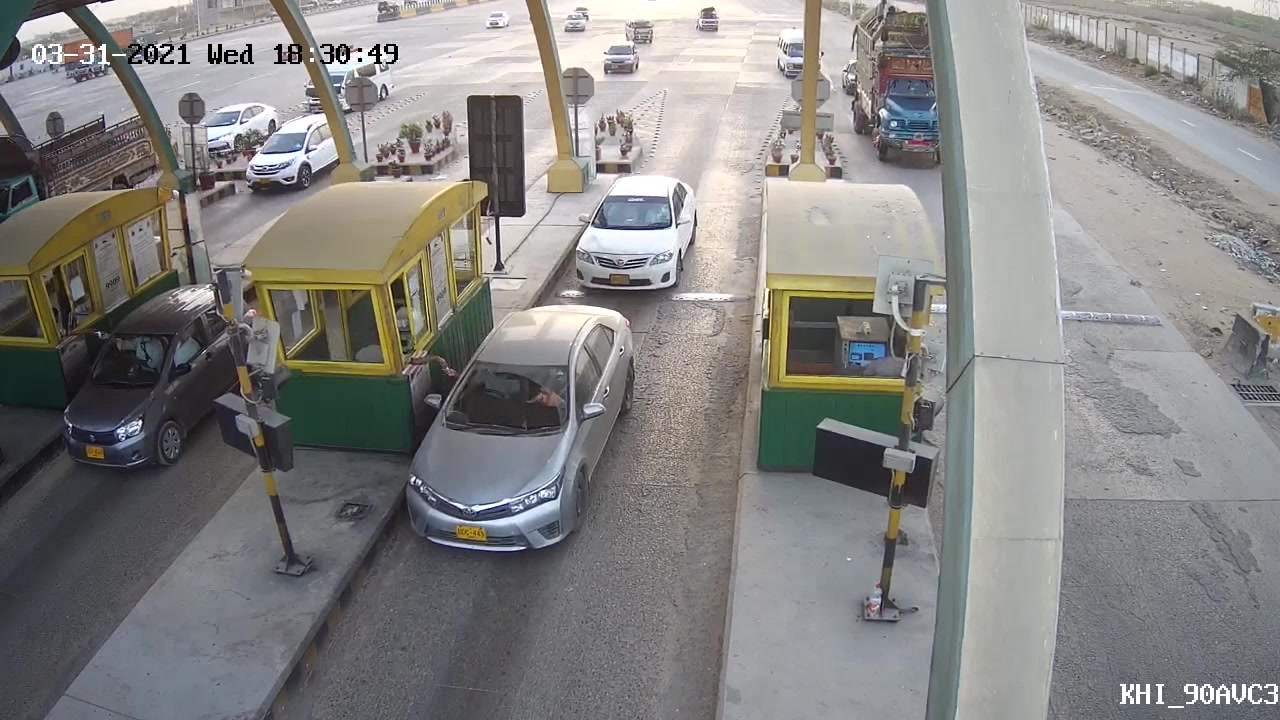F1: (395, 297, 637, 563), (571, 171, 702, 295)
